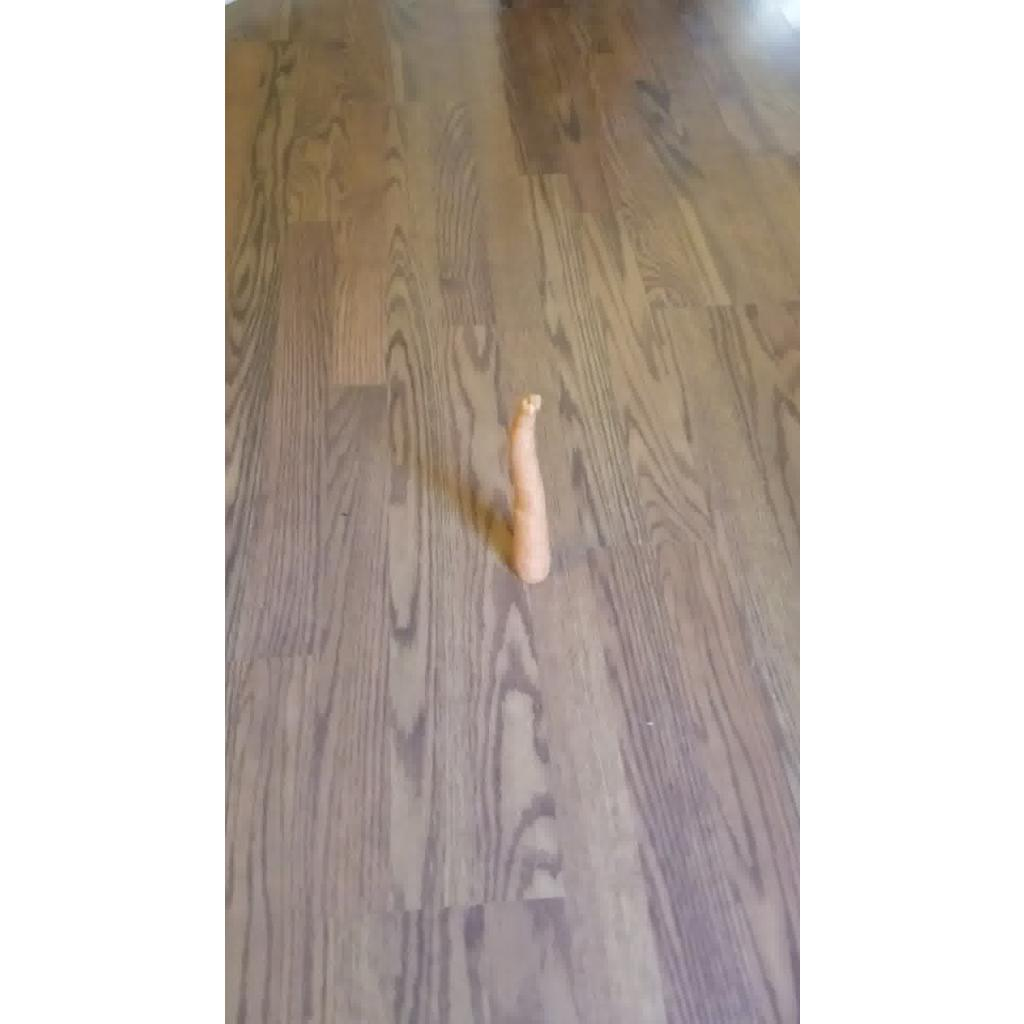carrot: (508, 394, 550, 584)
